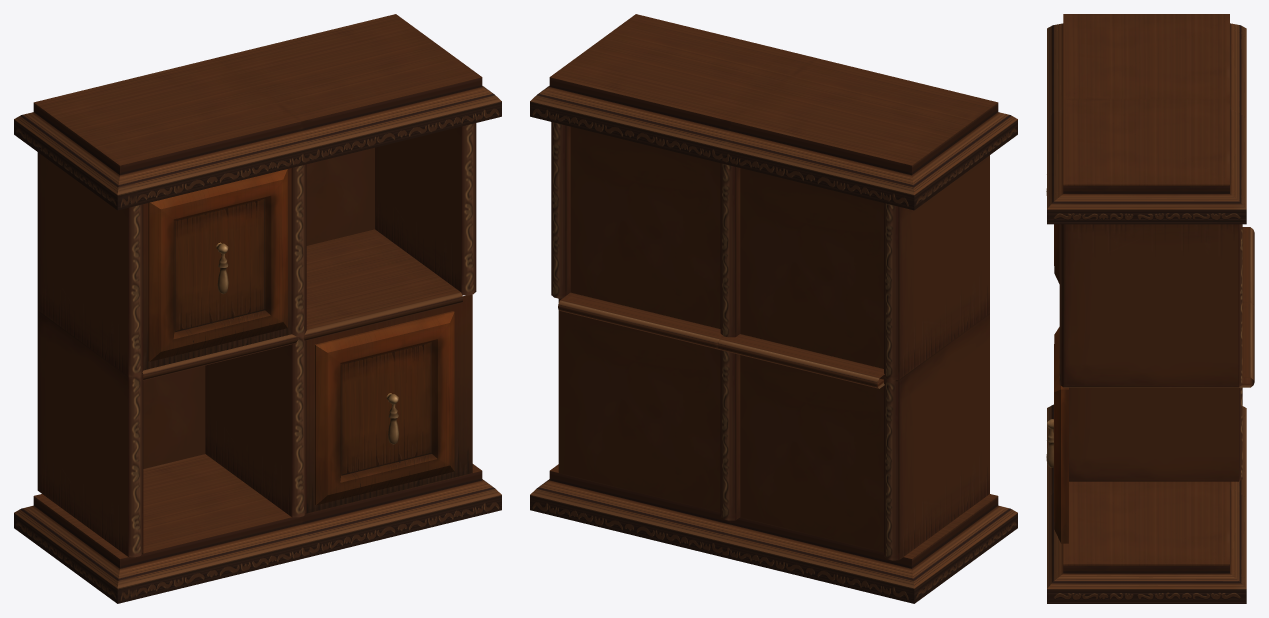
Rendered from Modular_Shelving.fbx.
3 views of the same model, side by side, from view 1: azimuth 30°, elevation 25°; view 2: azimuth 150°, elevation 25°; view 3: azimuth 270°, elevation 25° (orthographic). The views are drawn at different scales.
Parts seen in each view (by area): view 1: Bevelled_LFT_TnB3, Bevelled_RT_TnB5, Bevelled_LFT_TnB2, Basic_CpD3, Basic_CpD4, Panel17, Panel19, Panel20, Panel18, Rounded_MID_TnB1, Bevelled_RT_TnB4, Basic_FP4 (+5 smaller); view 2: Bevelled_LFT_TnB3, InsidePanels_Base13, InsidePanels_Base15, InsidePanels_Base16, Bevelled_RT_TnB5, InsidePanels_Base14, Panel17, Panel19, Bevelled_LFT_TnB2, Bevelled_RT_TnB4, Panel21, Panel20 (+3 smaller); view 3: Panel18, Bevelled_RT_TnB5, Bevelled_RT_TnB4, Bevelled_LFT_TnB3, Panel20, Basic_CpD3, Rounded_MID_TnB1, Rounded_MID_TnB2, Bevelled_LFT_TnB2, Basic_CpD4, Drop_HDL10.
Part boxes in pixels (<box>): Bevelled_LFT_TnB3: <box>14,58,309,210</box>; Bevelled_RT_TnB5: <box>215,14,501,163</box>; Bevelled_LFT_TnB2: <box>14,454,309,603</box>; Basic_CpD3: <box>315,311,454,505</box>; Basic_CpD4: <box>148,169,287,361</box>; Panel17: <box>37,310,143,557</box>; Panel19: <box>37,152,143,376</box>; Panel20: <box>205,335,306,517</box>; Panel18: <box>375,123,476,295</box>; Rounded_MID_TnB1: <box>304,229,463,340</box>; Bevelled_RT_TnB4: <box>301,464,501,556</box>; Basic_FP4: <box>306,294,472,513</box>; Bevelled_LFT_TnB3: <box>722,58,1017,210</box>; InsidePanels_Base13: <box>558,298,720,512</box>; InsidePanels_Base15: <box>570,126,720,328</box>; InsidePanels_Base16: <box>740,168,883,368</box>; Bevelled_RT_TnB5: <box>530,14,816,163</box>; InsidePanels_Base14: <box>740,355,883,552</box>; Panel17: <box>884,313,989,560</box>; Panel19: <box>884,155,989,379</box>; Bevelled_LFT_TnB2: <box>722,494,1017,603</box>; Bevelled_RT_TnB4: <box>530,464,730,556</box>; Panel21: <box>720,163,740,337</box>; Panel20: <box>720,350,740,520</box>; Panel18: <box>1059,224,1242,387</box>; Bevelled_RT_TnB5: <box>1047,99,1246,224</box>; Bevelled_RT_TnB4: <box>1047,481,1246,603</box>; Bevelled_LFT_TnB3: <box>1047,14,1246,118</box>; Panel20: <box>1069,387,1242,481</box>; Basic_CpD3: <box>1054,327,1068,543</box>; Rounded_MID_TnB1: <box>1063,302,1254,387</box>; Rounded_MID_TnB2: <box>1242,227,1254,306</box>; Bevelled_LFT_TnB2: <box>1047,404,1246,497</box>; Basic_CpD4: <box>1054,224,1059,283</box>; Drop_HDL10: <box>1046,419,1053,467</box>.
Bounding box in the file's own units: 160 × 171 × 77.85.
